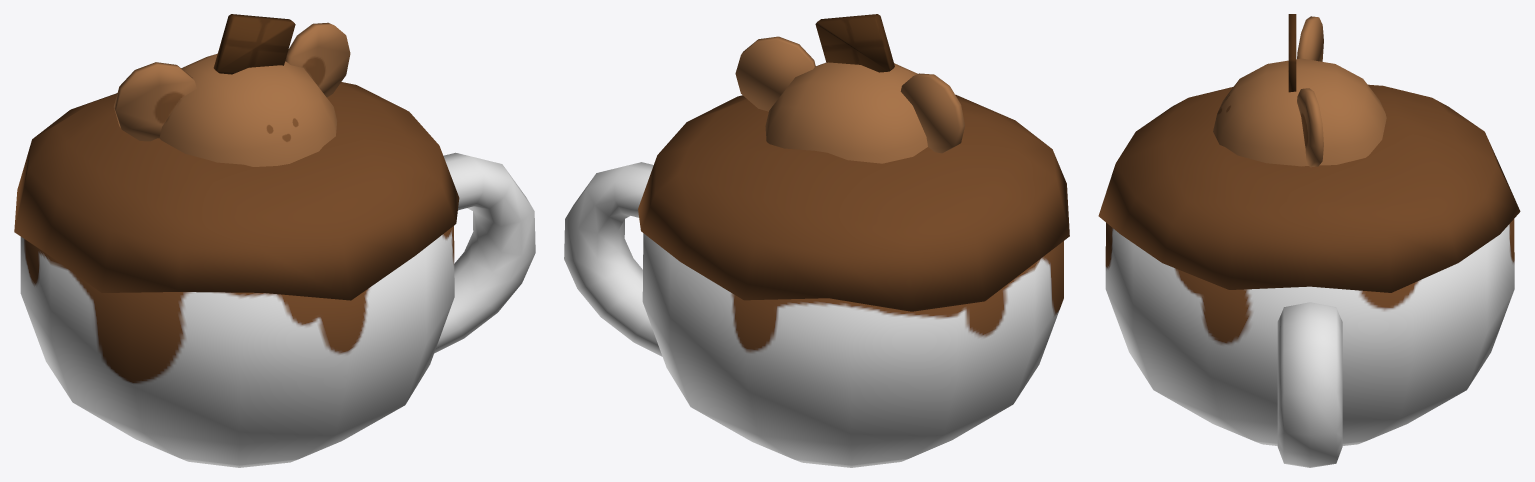
File: MochaCup.fbx
The picture shows the model from 3 angles, left to right: view 1: azimuth 30°, elevation 25°; view 2: azimuth 150°, elevation 25°; view 3: azimuth 270°, elevation 25°; orthographic projection. The views are drawn at different scales.
Visible parts, largest first — view 1: NurbsPath.002; view 2: NurbsPath.002; view 3: NurbsPath.002.
Boxes of the visible parts, x1,y1,x2,y2 form: NurbsPath.002: (14,14,535,467); NurbsPath.002: (564,14,1069,467); NurbsPath.002: (1098,14,1520,467).
Bounding box in the file's own units: 56.7 × 47.21 × 46.4.
Materials: 1 (1 with a texture image).
